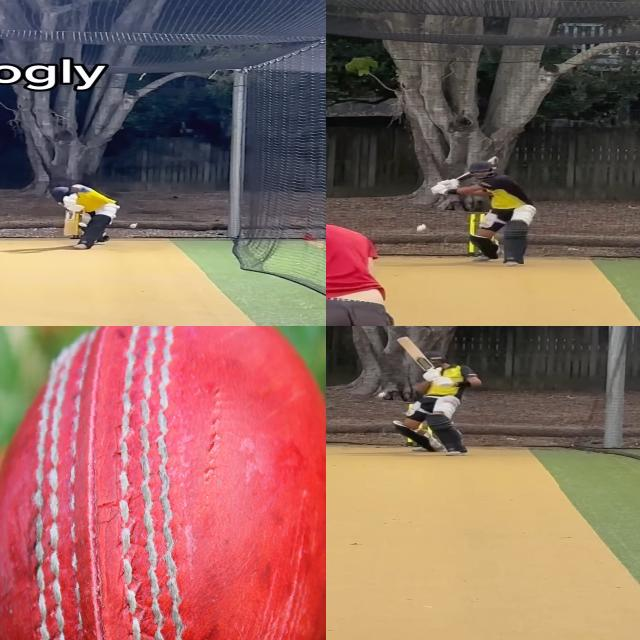Cricket ball: (0, 326, 326, 640), (415, 224, 429, 234), (376, 391, 389, 399), (129, 223, 138, 229)
